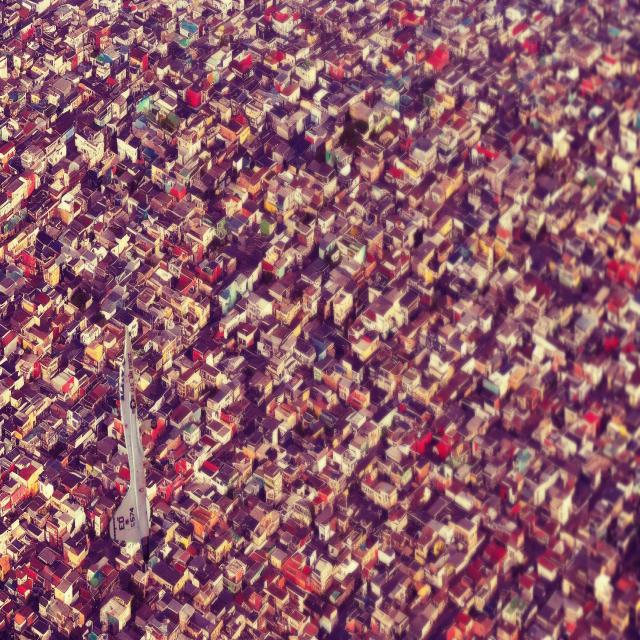airplane: (108, 324, 153, 563)
